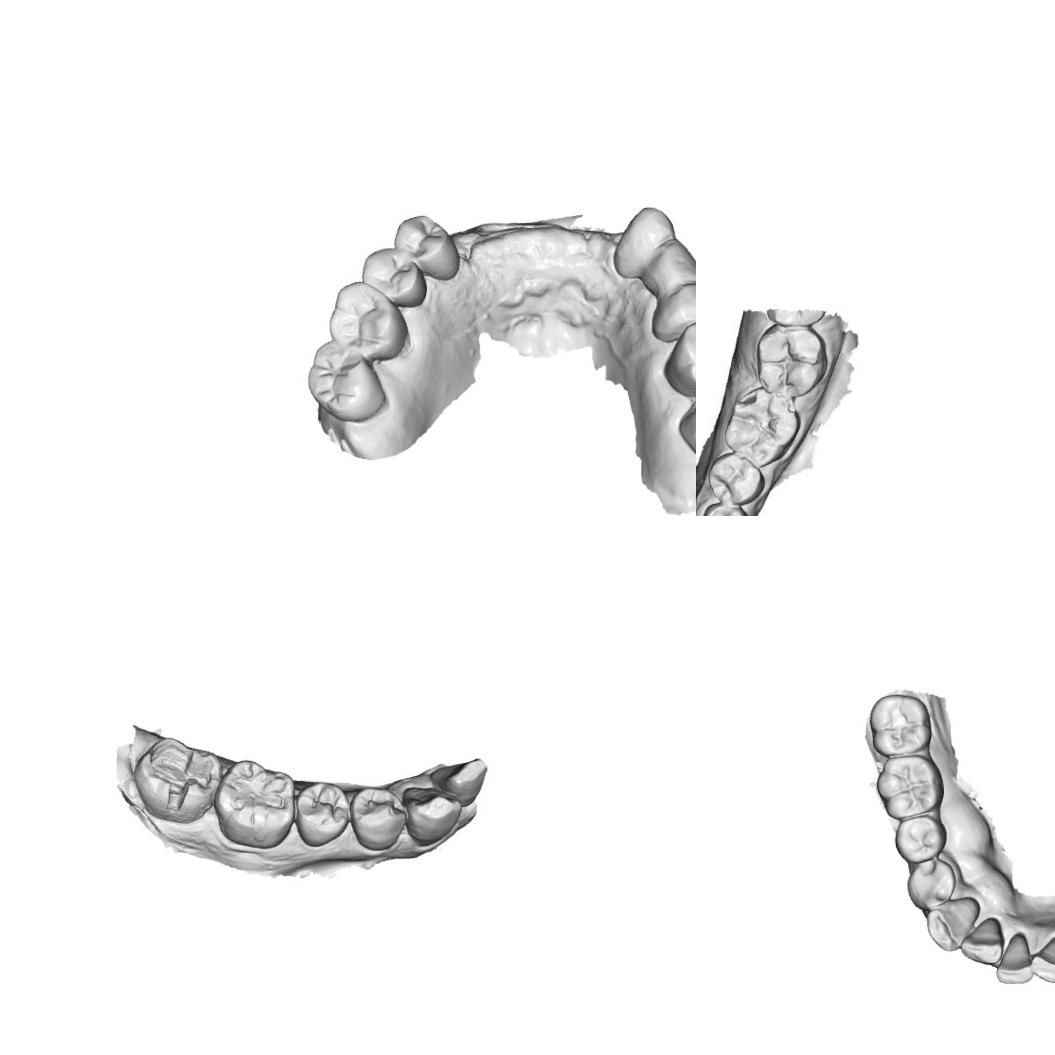canine: (611, 204, 676, 282), (400, 778, 464, 846), (924, 897, 982, 952)
incisor: (427, 755, 488, 804), (958, 916, 1005, 966), (994, 932, 1034, 986), (1029, 934, 1055, 984)
inlay: (144, 737, 217, 815)
molar: (212, 758, 296, 850), (325, 279, 410, 363), (304, 339, 386, 425), (725, 383, 797, 465), (759, 324, 825, 396), (875, 754, 946, 820), (868, 692, 934, 758), (661, 314, 696, 397), (676, 385, 696, 468)
premolar: (390, 212, 460, 282), (361, 242, 430, 308), (346, 782, 408, 854), (292, 780, 353, 848), (637, 235, 696, 294), (705, 452, 765, 506), (649, 280, 696, 344), (892, 812, 948, 865), (905, 858, 958, 911), (700, 500, 754, 516)
